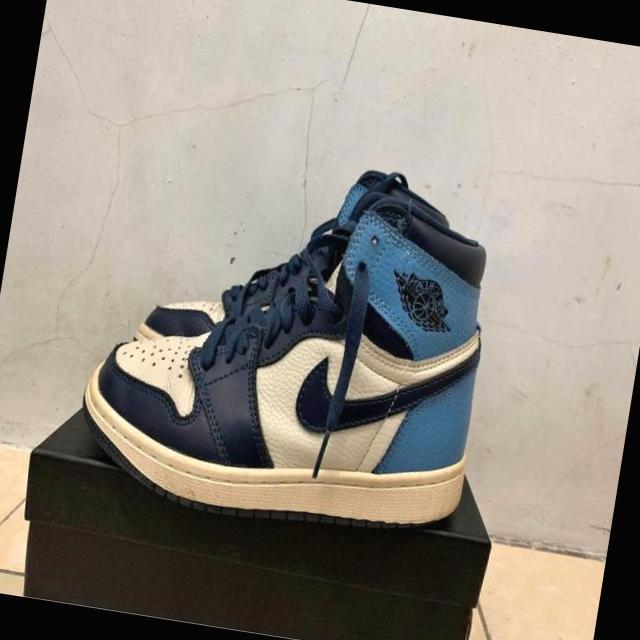nike_original_jordan: (62, 152, 505, 558), (131, 136, 456, 391)
